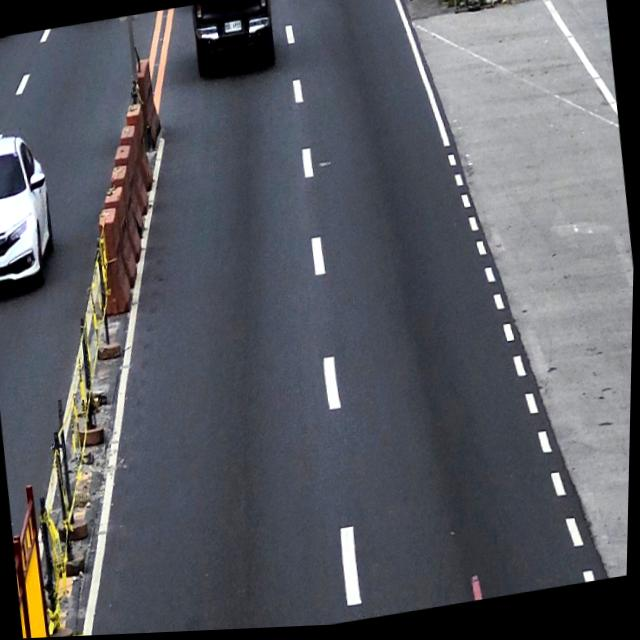Car: (188, 0, 279, 84)
License-Plate: (224, 22, 242, 35)
